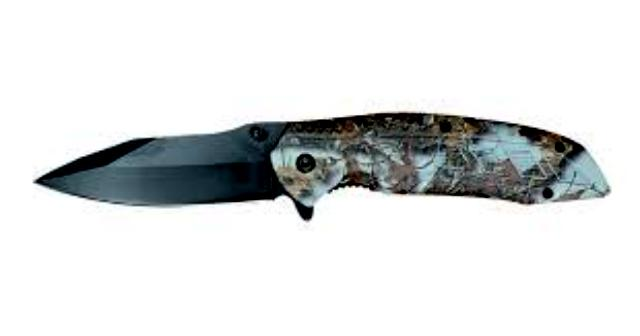pocket-knife: (26, 111, 616, 221)
